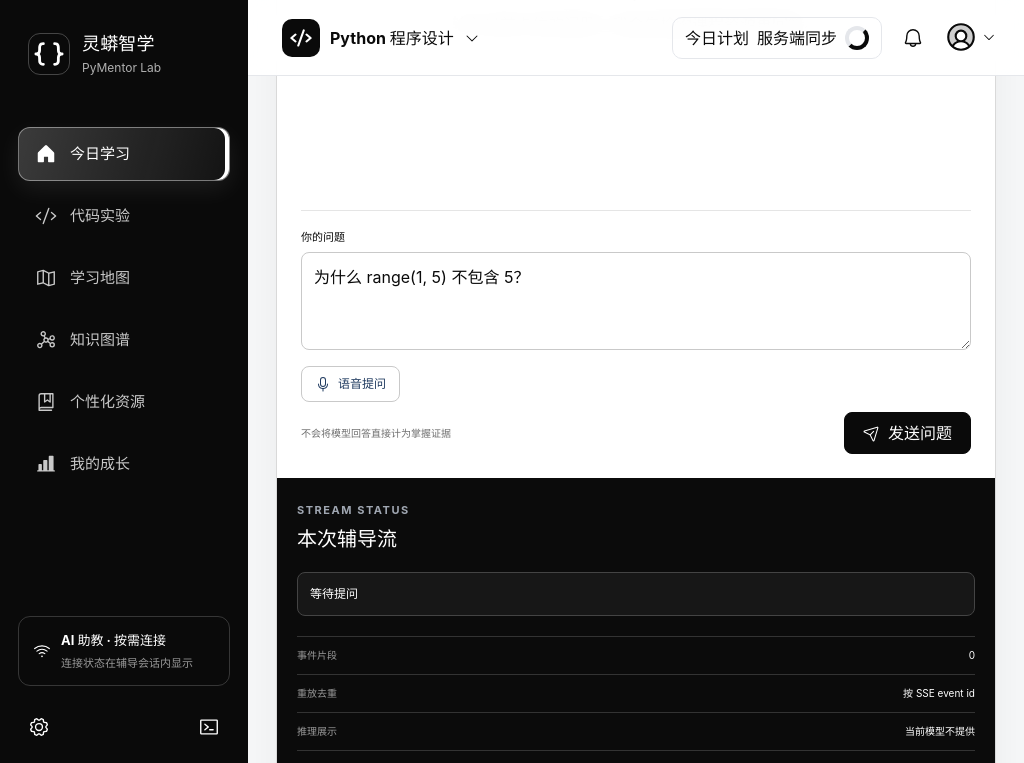
FE-022 voice question › shows a helpful message and keeps the keyboard path when mic permission is denied
(page scrolled)
Step 1. Click the button "语音提问" → (350, 384), box [301,366,400,402]
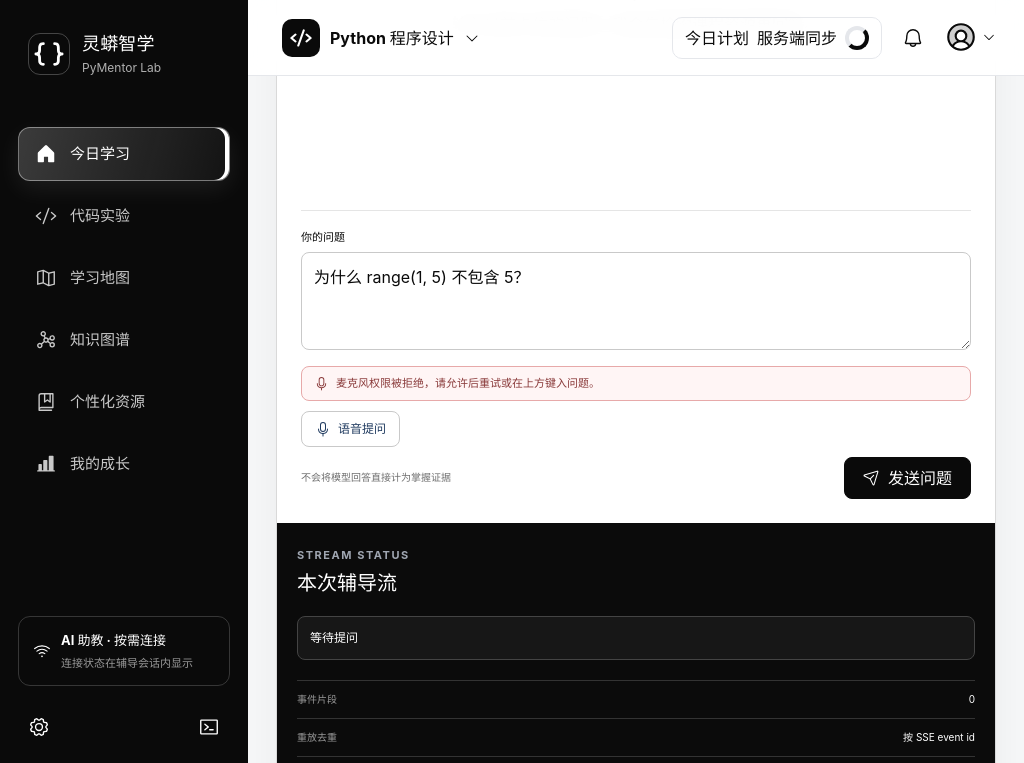
Expected: the text box labelled "你的问题" is enabled, [301,252,971,350]
Result: the message named "语音录音失败" reads "麦克风权限被拒绝，请允许后重试或在上方键入问题。" at [336,376,600,390]
